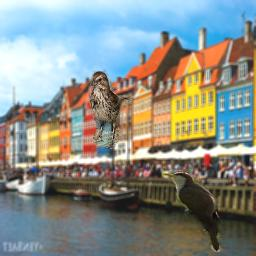Cuckoo: (162, 171, 223, 252)
Sparrow: (90, 71, 134, 149)
